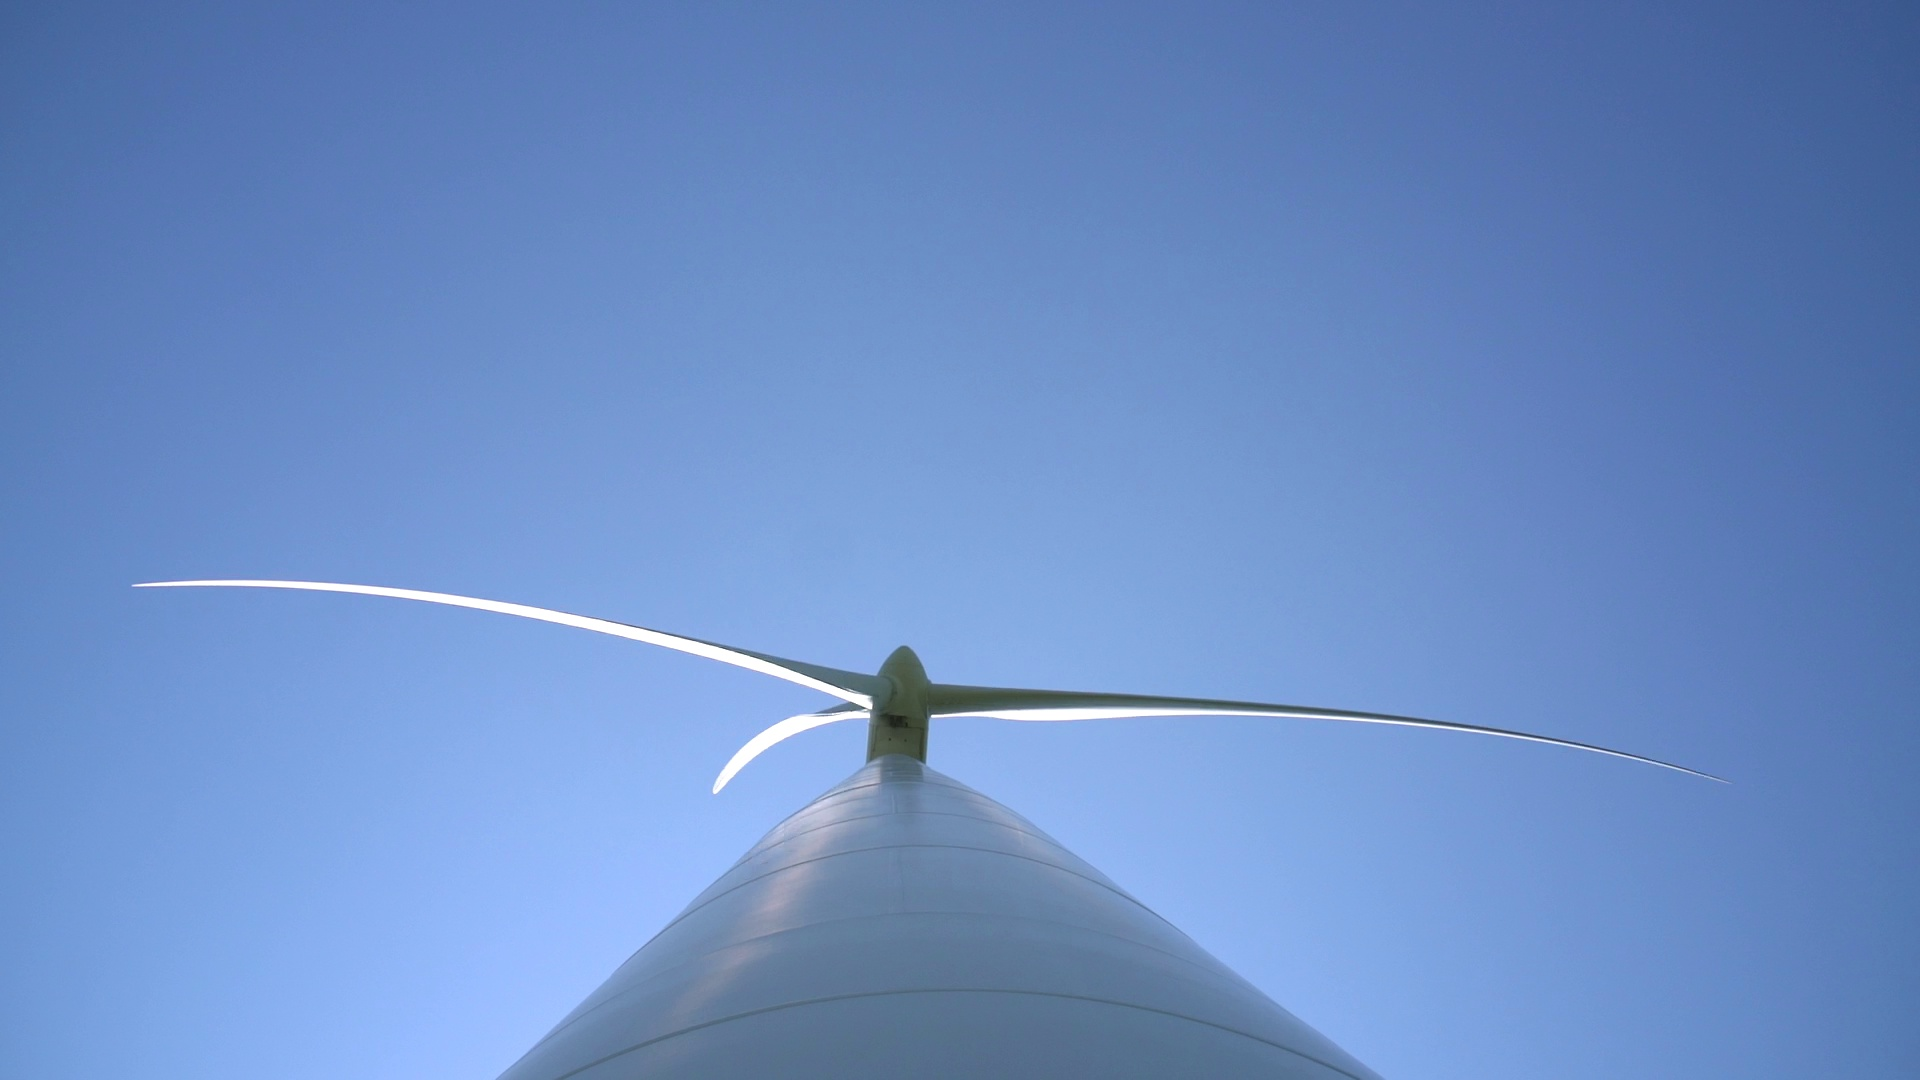turbine: (84, 530, 894, 723), (895, 638, 1751, 818), (659, 683, 881, 847)
